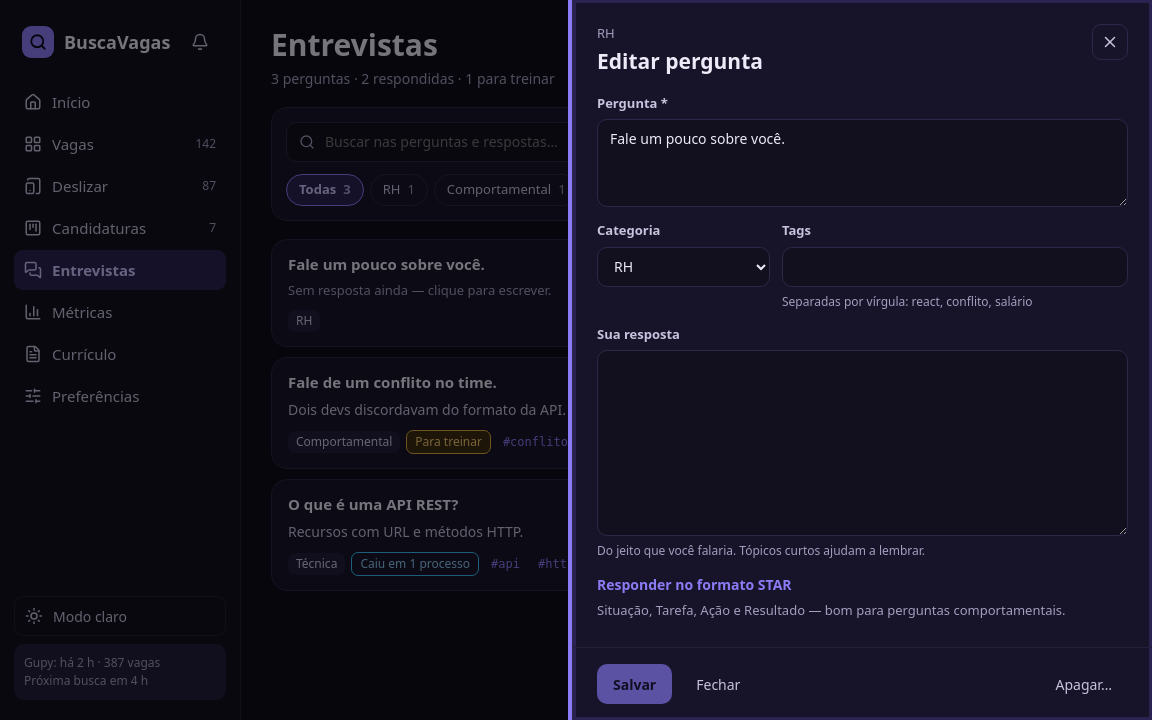
Entrevistas › fechar com alteração não salva pergunta antes
Type "Sou dev full stack." into the text box labelled "Sua resposta" at (862, 443), box [597,350,1128,536]
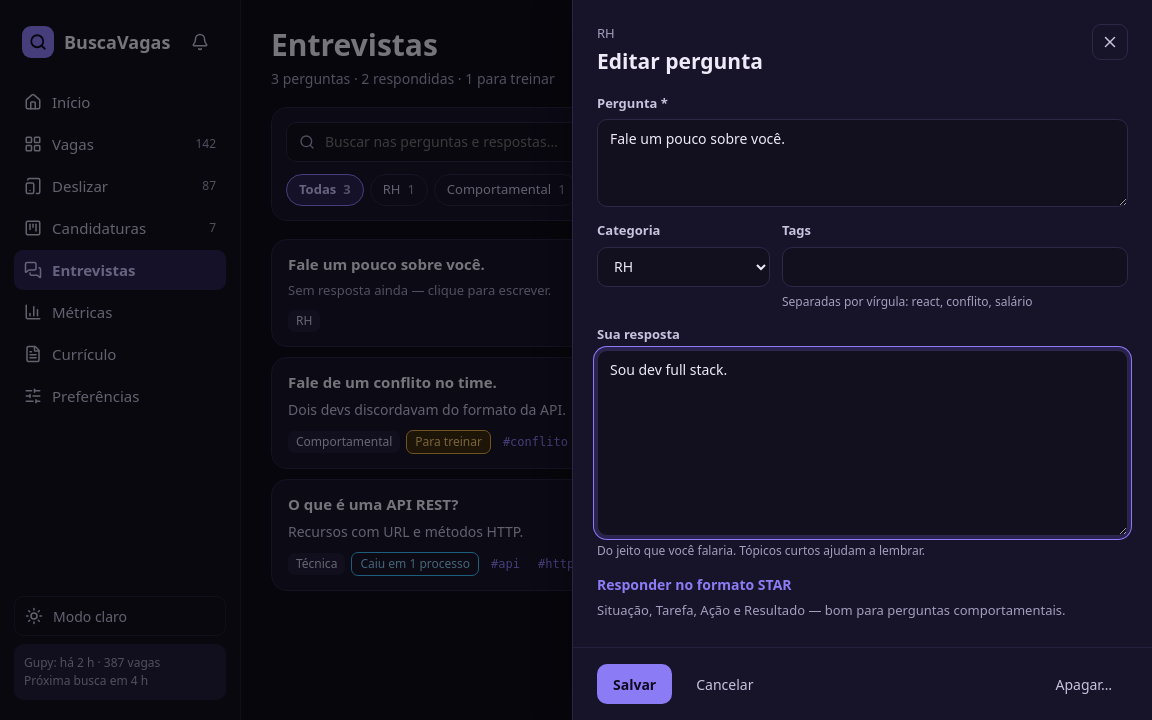
Click the button "Cancelar" at (725, 684), box [680,664,769,704]
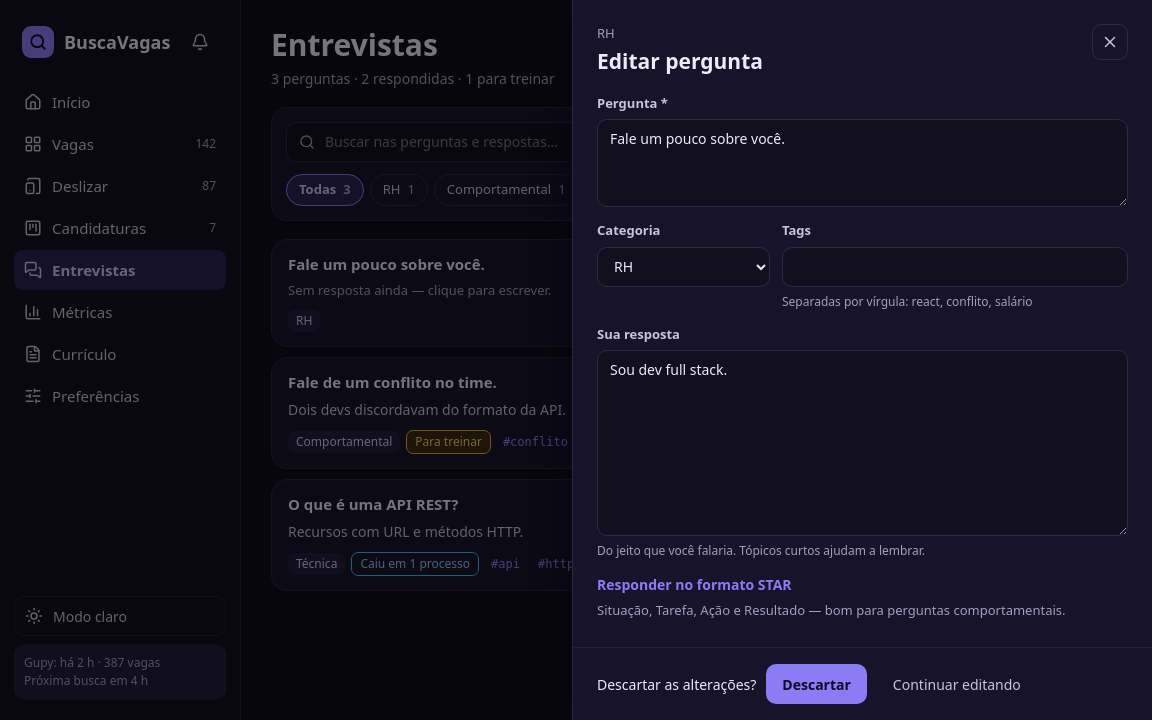
Now the text "Descartar as alterações?" is shown, box [597,674,756,694]
Click the button "Continuar editando" at (957, 684), box [877,664,1037,704]
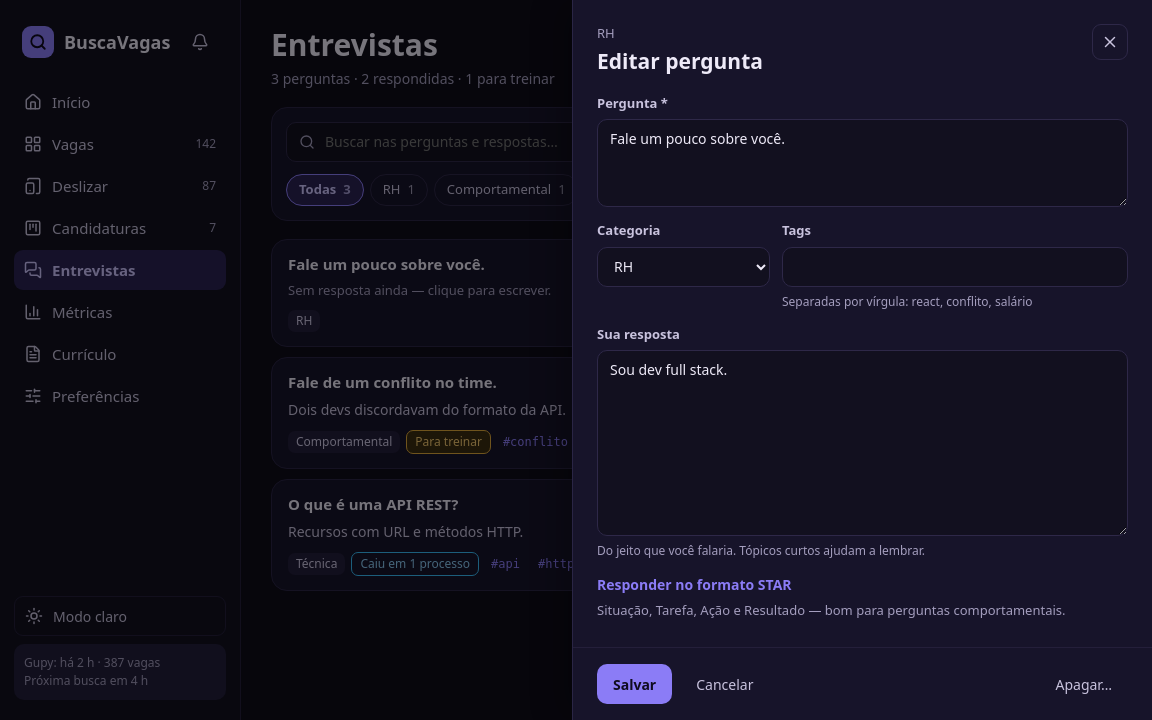
Press Escape
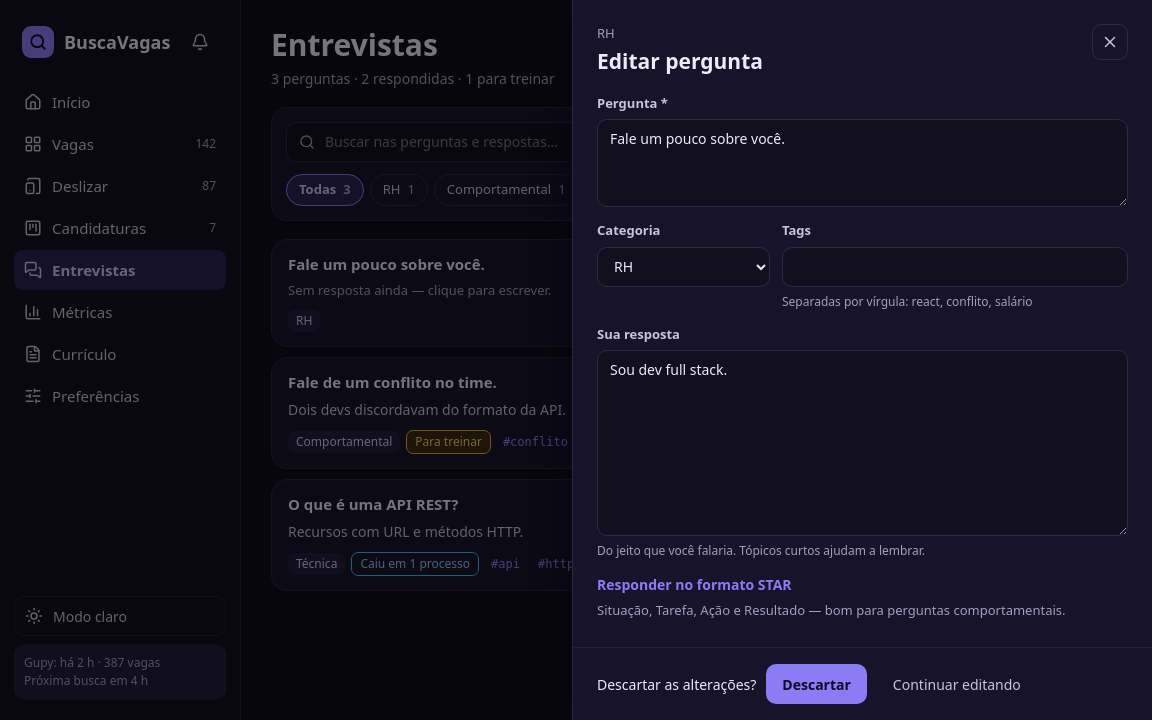
Click the button "Descartar" at (817, 684), box [766,664,867,704]
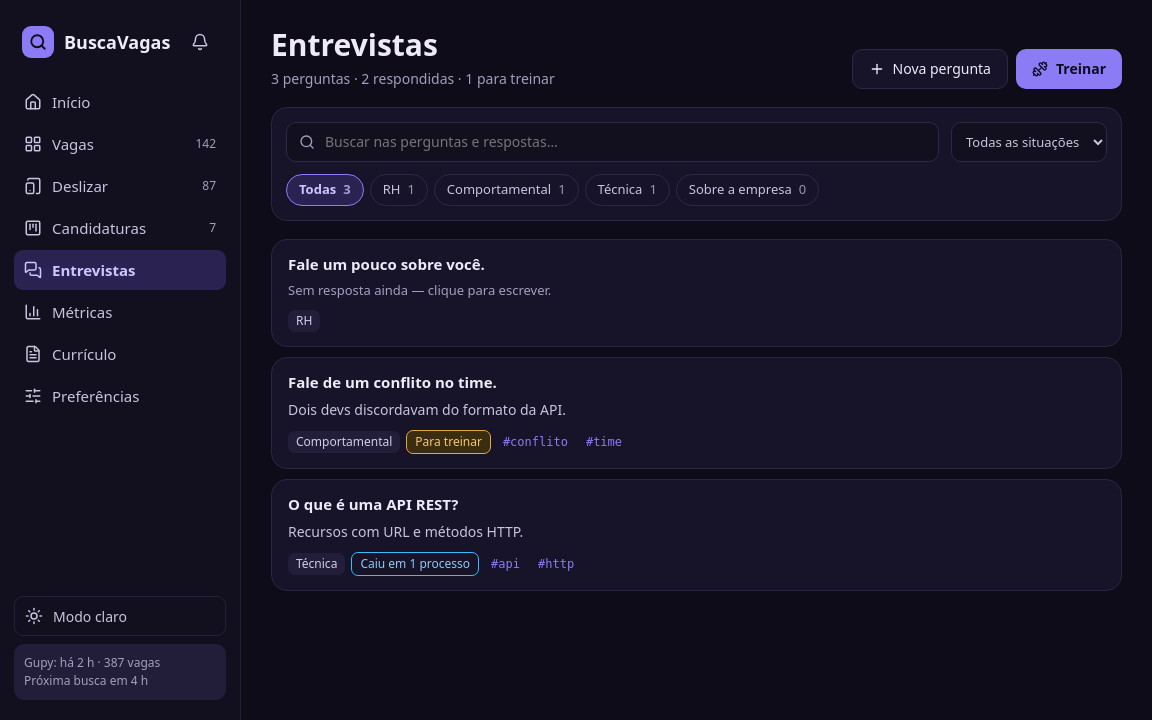
Now the dialog is gone
